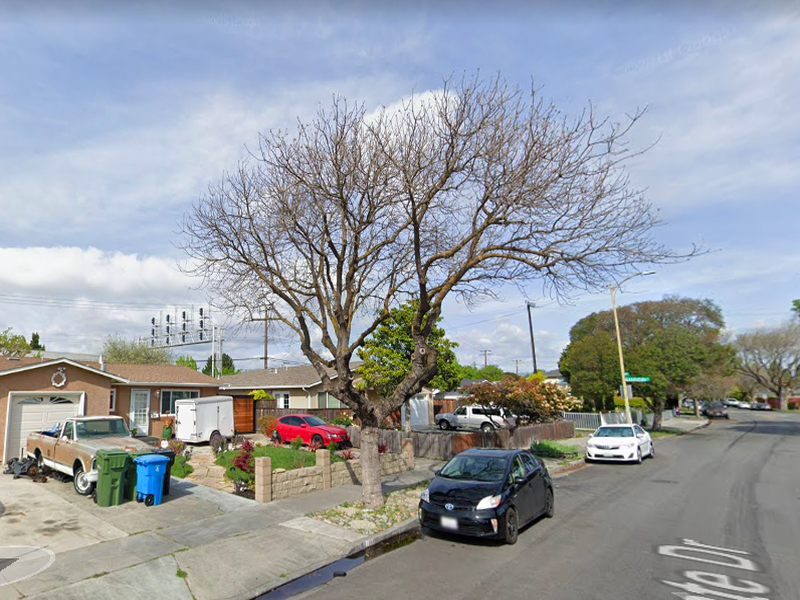tree: (171, 65, 723, 476)
